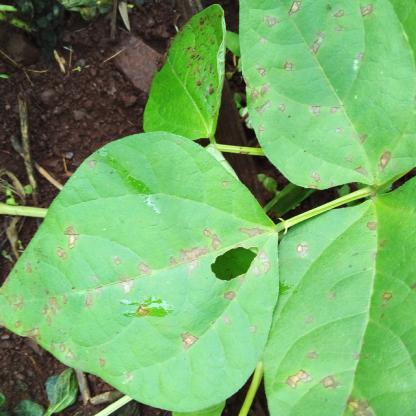Beans_Angular_LeafSpot: (2, 151, 272, 404), (222, 0, 414, 188), (276, 200, 415, 414), (134, 10, 224, 143)
